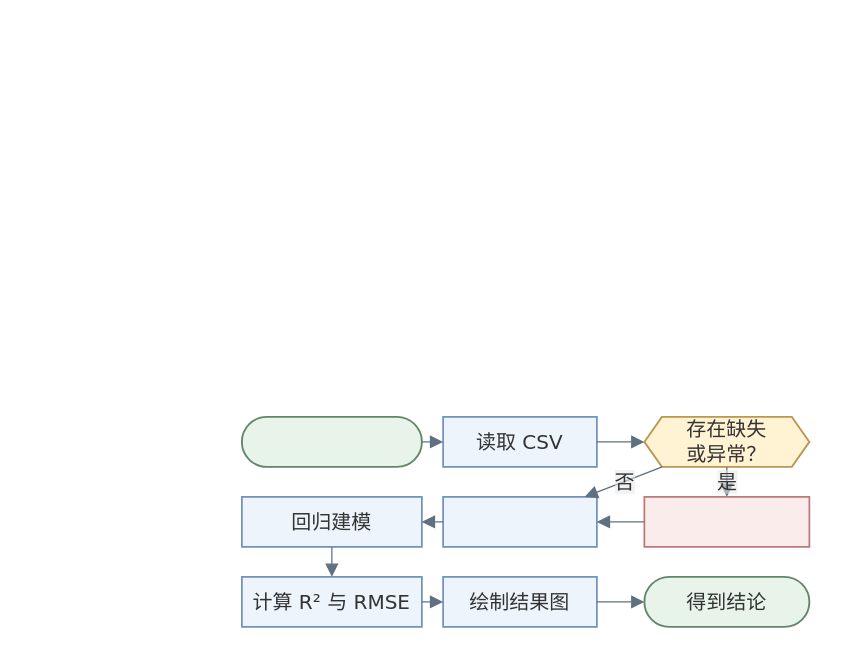
The diagram is 843 pixels wide and 660 high, and some of its shapes have lost their labels. Each missing label, with the centre of its shape:
开始: the point at 331,441
数据清洗: the point at 726,521
统计与相关分析: the point at 519,521
